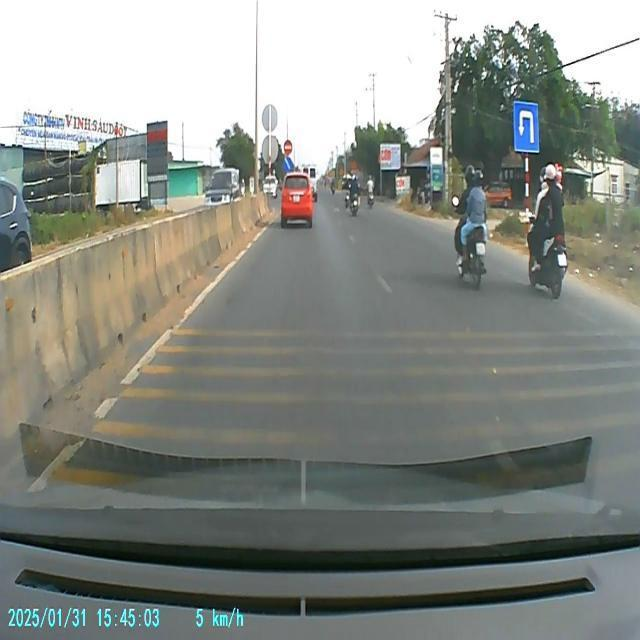102-cam-di-nguoc-chieu: (284, 139, 292, 155)
302a-huong-phai-di-vong-chuong-ngai-vat-1: (283, 158, 293, 174)
